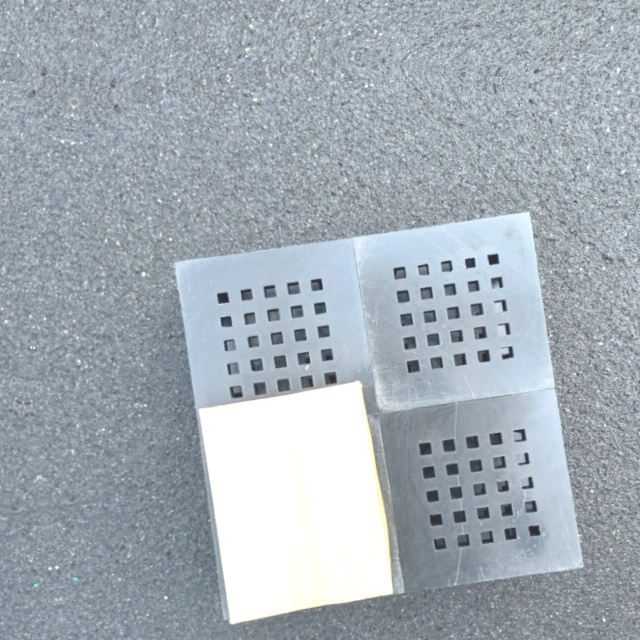box: (195, 377, 399, 626)
pallet: (164, 203, 594, 619)
